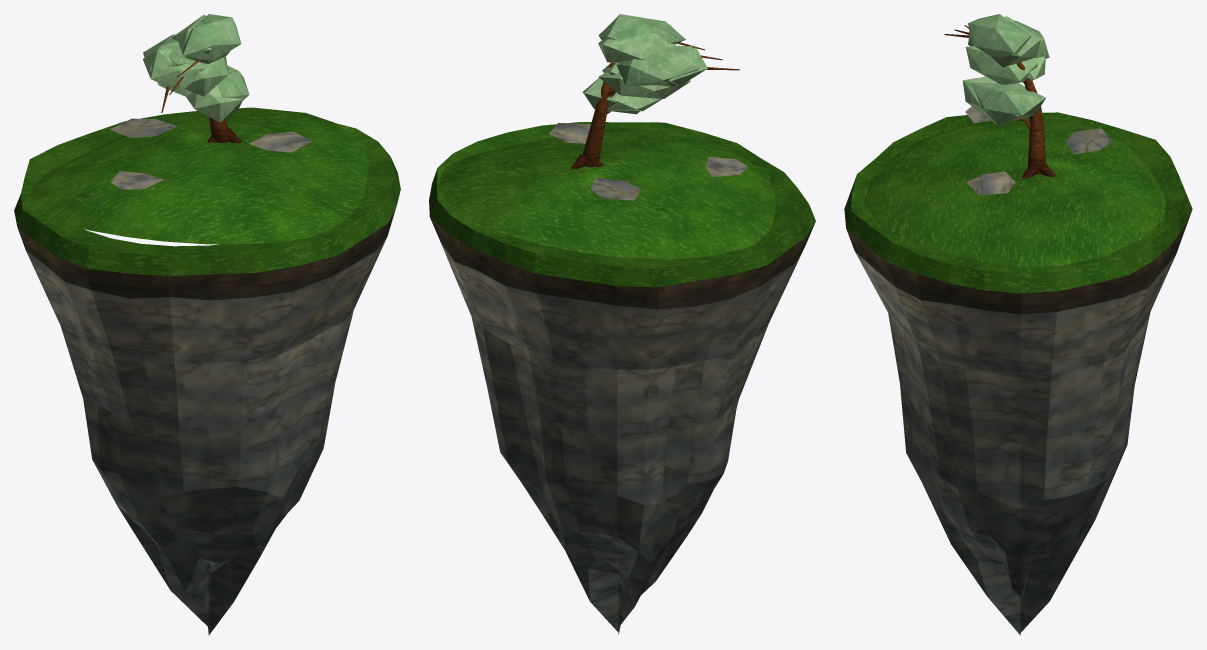
Rendered from islet_crag_b.glb.
3 views of the same model, side by side, from view 1: azimuth 30°, elevation 25°; view 2: azimuth 150°, elevation 25°; view 3: azimuth 270°, elevation 25° (orthographic). The views are drawn at different scales.
Visible parts, largest first — view 1: islet_crag_b; view 2: islet_crag_b; view 3: islet_crag_b.
Boxes of the visible parts, x1,y1,x2,y2 form: islet_crag_b: (14,14,400,635); islet_crag_b: (429,14,815,634); islet_crag_b: (844,14,1192,635).
Bounding box in the file's own units: 6.75 × 11.53 × 5.95.
Materials: 4 (4 with a texture image).
